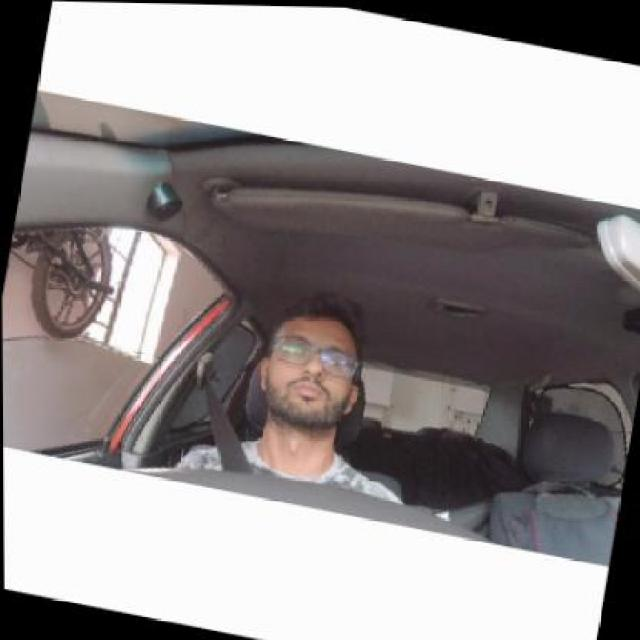person: (258, 308, 362, 419)
